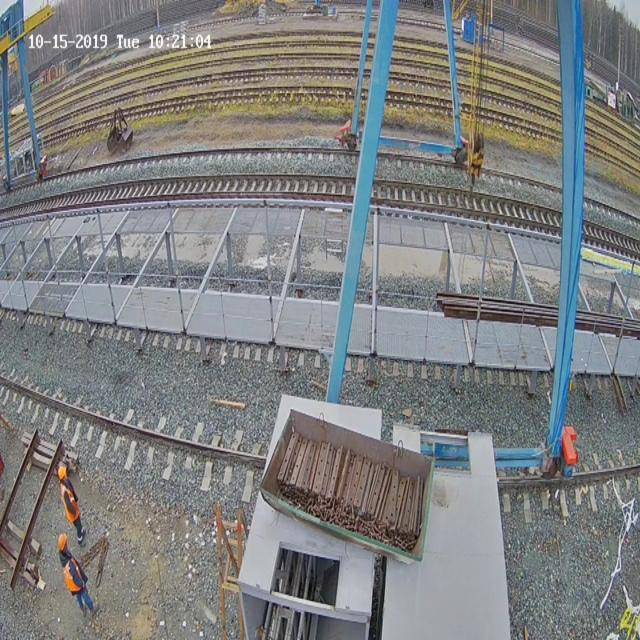Helmet: (58, 532, 67, 551), (57, 466, 66, 480)
Person: (54, 531, 97, 613), (57, 465, 86, 546)
